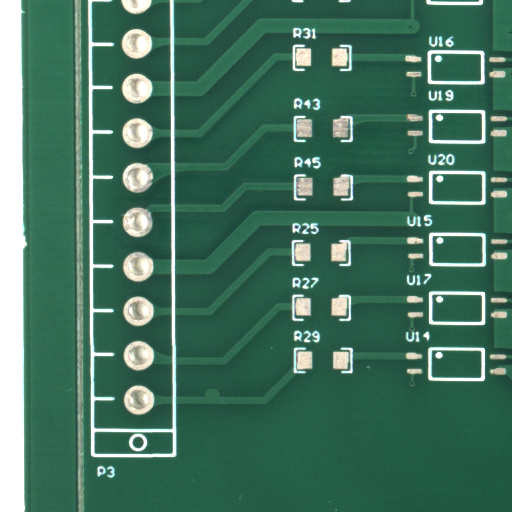Spur: (212, 392, 228, 403)
